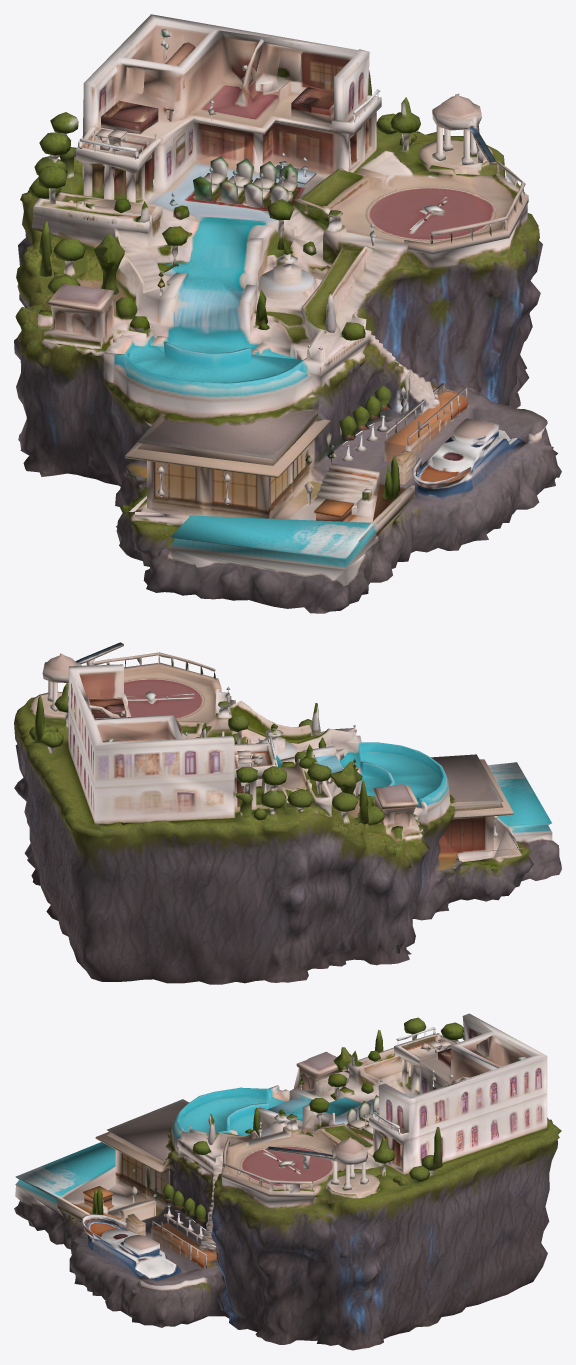
The model's file is tier6-lv29.glb.
3 renders of one model, top to bottom at view 1: azimuth 30°, elevation 25°; view 2: azimuth 150°, elevation 25°; view 3: azimuth 270°, elevation 25°, orthographic. The views are drawn at different scales.
Visible parts, largest first — view 1: tripo_node_a9634312-3b0a-4ace-86cc-cabee812b188; view 2: tripo_node_a9634312-3b0a-4ace-86cc-cabee812b188; view 3: tripo_node_a9634312-3b0a-4ace-86cc-cabee812b188.
Boxes of the visible parts, x1,y1,x2,y2 form: tripo_node_a9634312-3b0a-4ace-86cc-cabee812b188: (14, 14, 561, 613); tripo_node_a9634312-3b0a-4ace-86cc-cabee812b188: (14, 642, 561, 984); tripo_node_a9634312-3b0a-4ace-86cc-cabee812b188: (14, 1013, 561, 1350).
Size of the model in its own units: 0.871 by 0.4863 by 1.09.
Materials: 1 (1 with a texture image).
